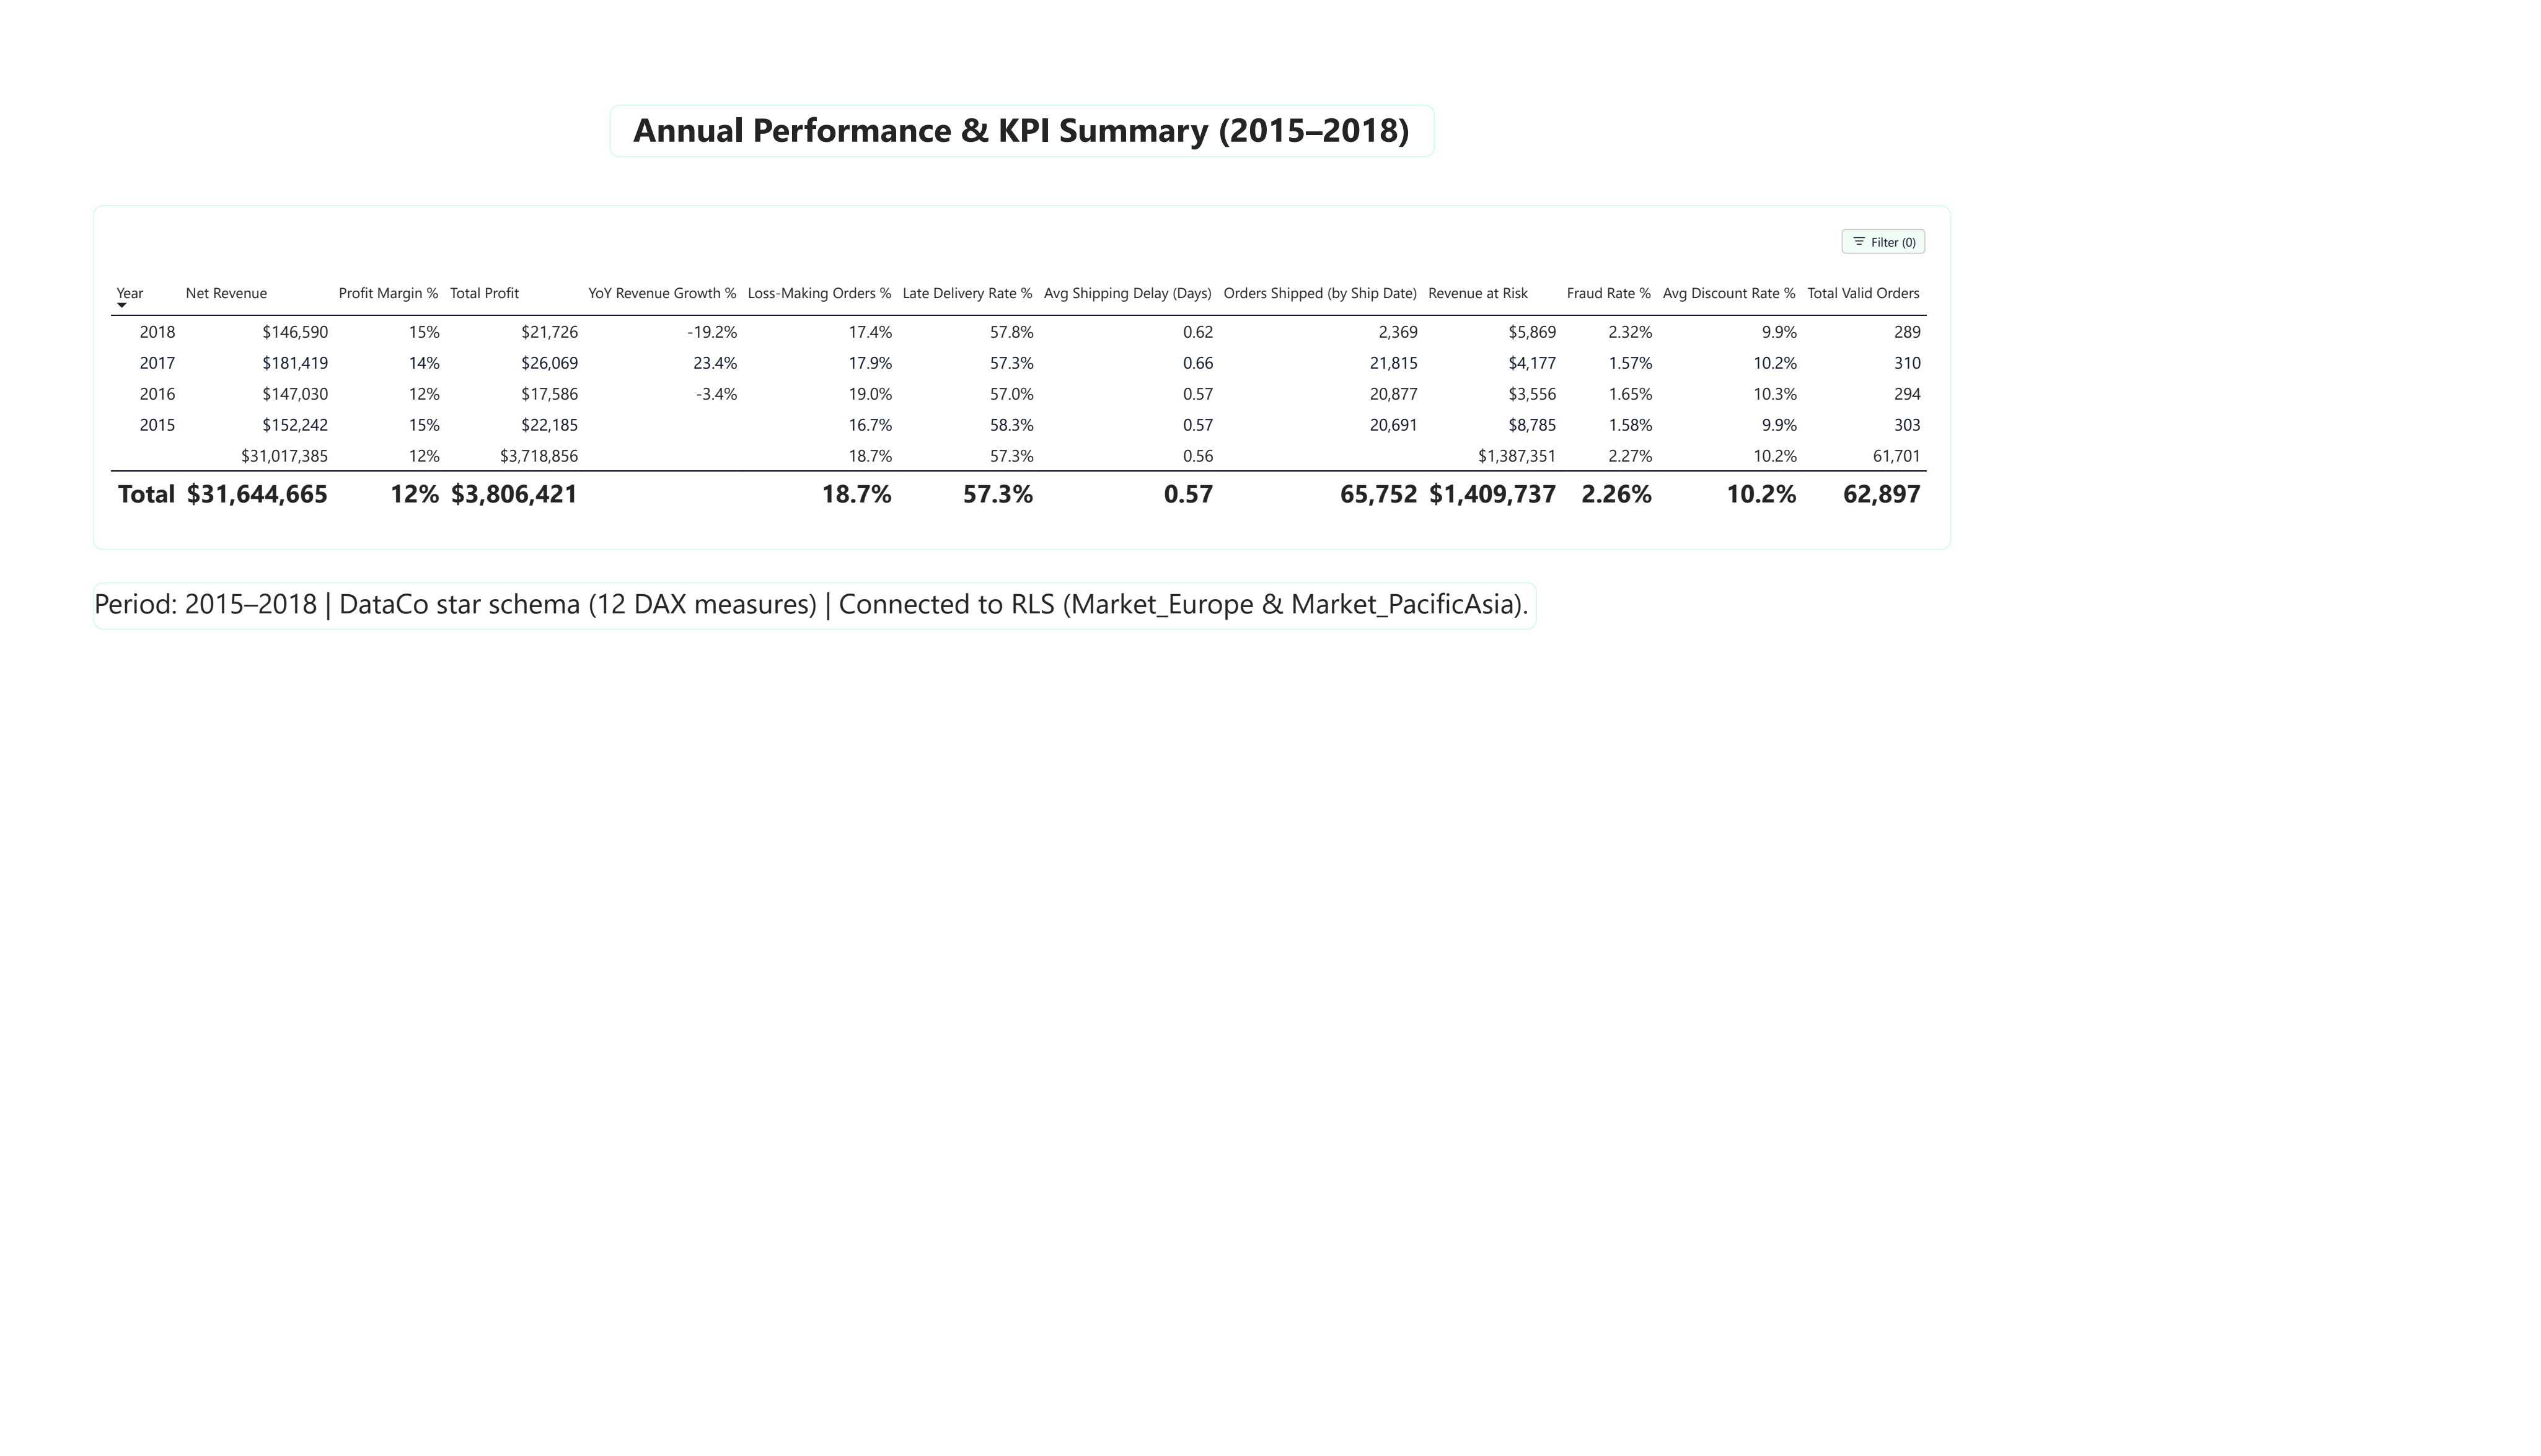

Layout of this report page (visuals, bound fields, positions):
{"tool":"powerbi","page":{"name":"KPI Summary Table","canvas":[1920,1080],"ordinal":0},"visuals":[{"type":"tableEx","fields":{"Values":["Dim_Date.Year","_Measures.Net Revenue","_Measures.Profit Margin %","_Measures.Total Profit","_Measures.YoY Revenue Growth %","_Measures.Loss-Making Orders %","_Measures.Late Delivery Rate %","_Measures.Avg Shipping Delay (Days)","_Measures.Orders Shipped (by Ship Date)","_Measures.Revenue at Risk","_Measures.Fraud Rate %","_Measures.Avg Discount Rate %"]},"box":[60,168.8,1798.8,333.8],"z":0},{"type":"textbox","box":[560,71.2,798.8,51.2],"z":1000},{"type":"textbox","box":[60,533.8,1397.5,46.2],"z":2000}]}

Visuals, with their boxes on the page's 1920x1080 design canvas (x1, y1, x2, y2). These are canvas units, not pixel positions in the 2541x1456 screenshot, which may show the page scaled, cropped or inside an application window:
tableEx - Dim_Date.Year x _Measures.Net Revenue: 60/169/1859/503
textbox: 560/71/1359/122
textbox: 60/534/1458/580
